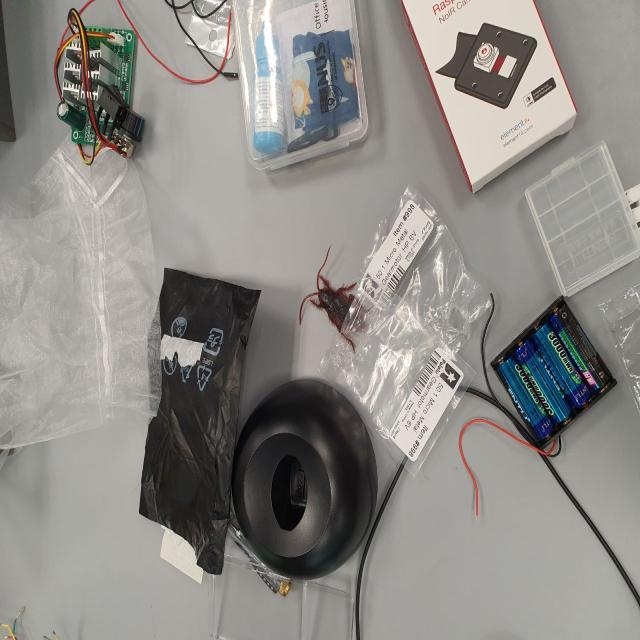Cockroach: (296, 246, 376, 362)
